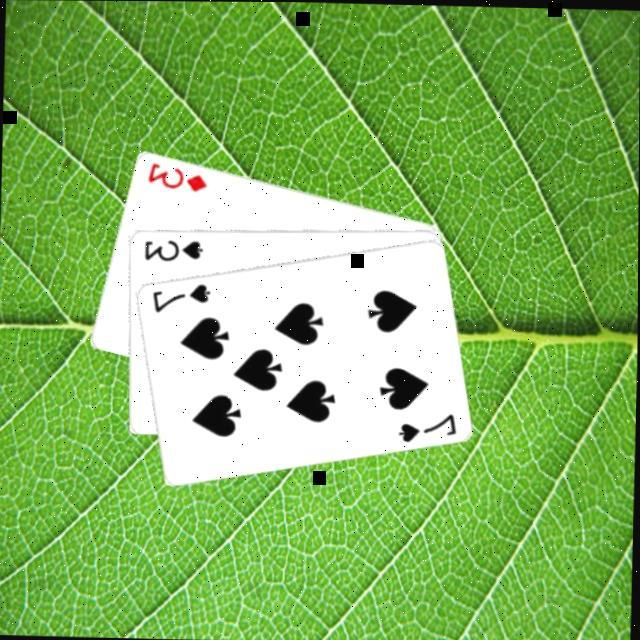3D: (143, 160, 210, 195)
3S: (140, 237, 203, 265)
7S: (393, 409, 458, 446), (148, 280, 212, 316)
